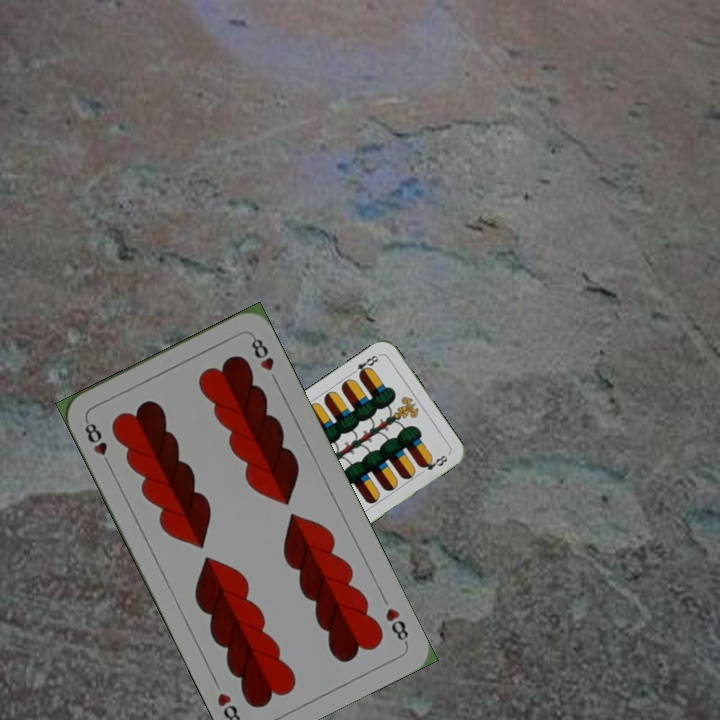E8: (347, 350, 383, 380)
H8: (80, 415, 114, 470), (381, 603, 411, 647)
